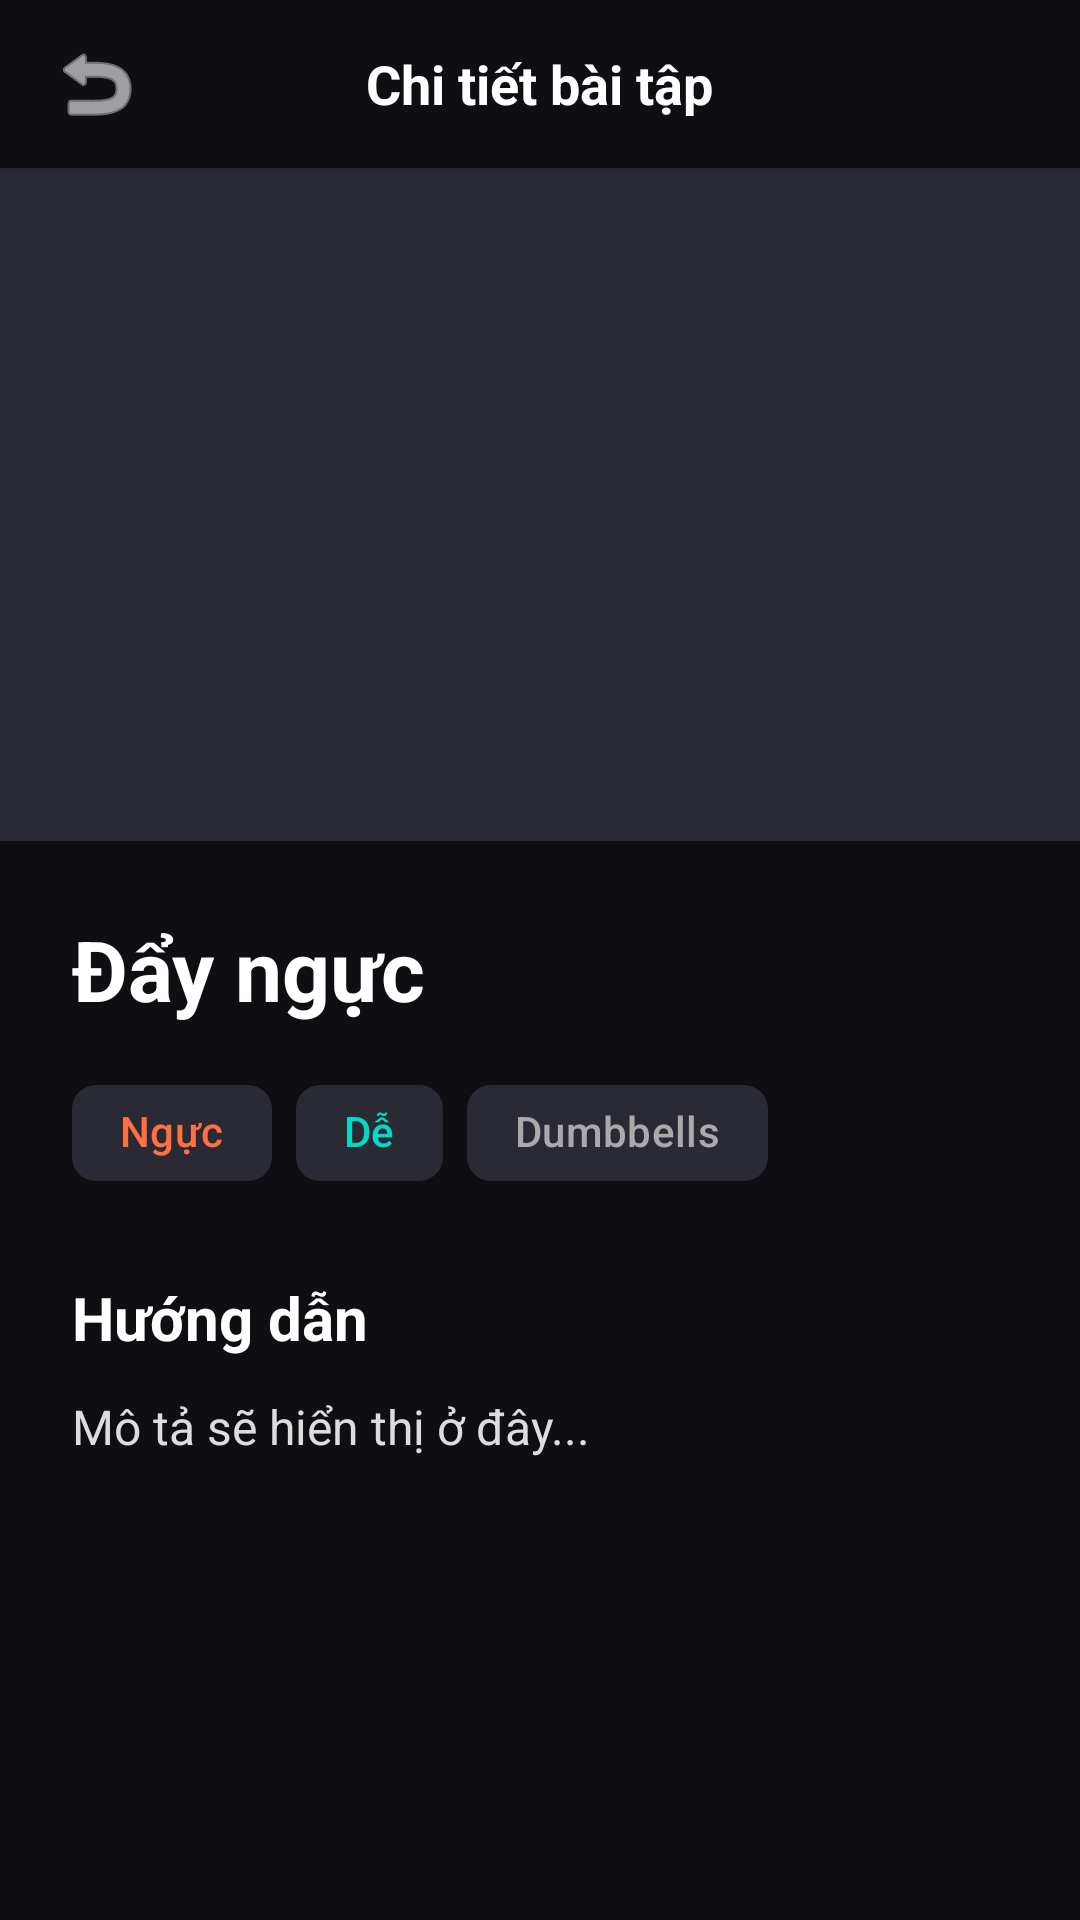

Icon bounding boxes for this 1080w x 1920h phone screenshot, format bbox=[x1, y1, x2, y2]:
Back: bbox=[63, 53, 132, 116]
